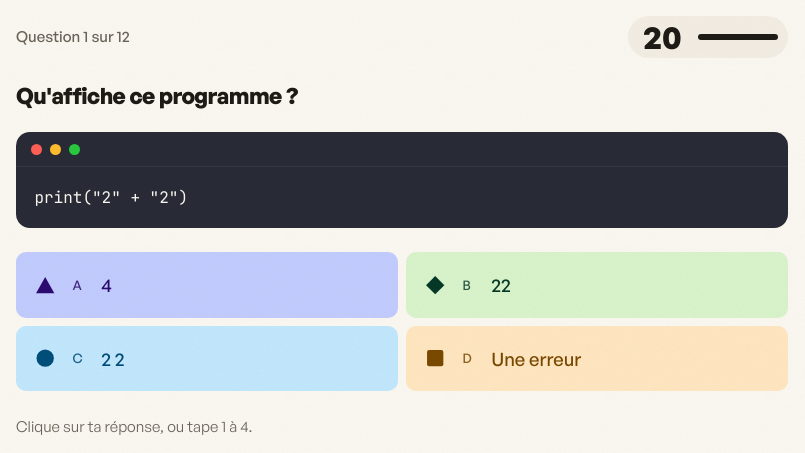
Test case: EcranQuiz › montre la question, le code et le temps, et répond d un clic
The image size is (805, 453).
Expected: the heading "Qu'affiche ce programme ?" is shown, [16,81,298,109]
Expected: the text "print(\"2\" + \"2\")" is shown, [34,187,188,208]
Click the button "B 22" at (435,285), box [406,252,788,318]
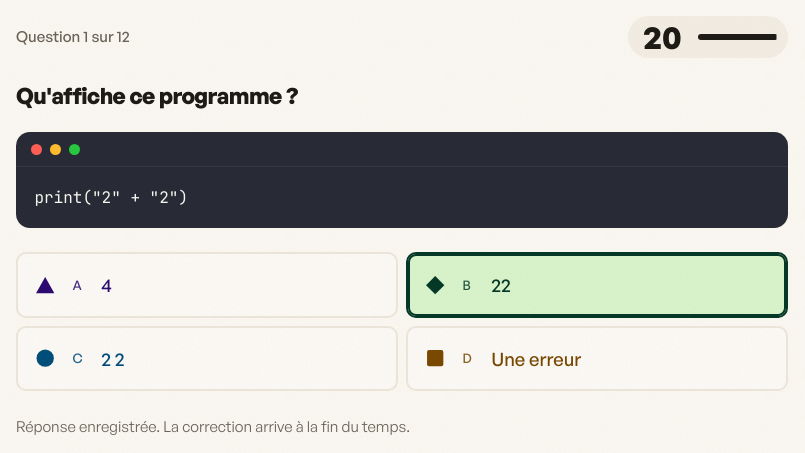
Now the text "Réponse enregistrée. La correction arrive à la fin du temps." is shown, box [16,417,410,436]
Now the button "A 4" is disabled, box [16,252,398,318]
Now the button "C 2 2" is disabled, box [16,326,398,391]
